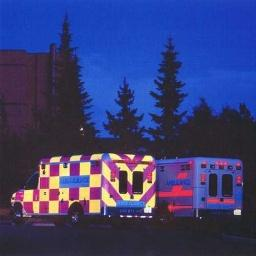Ambulance: (11, 153, 155, 223), (156, 157, 242, 219)
